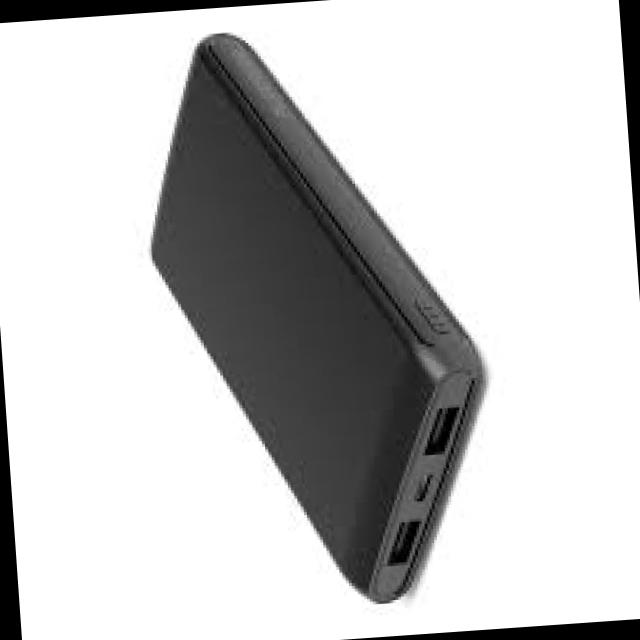portable-charger: (128, 8, 504, 626)
